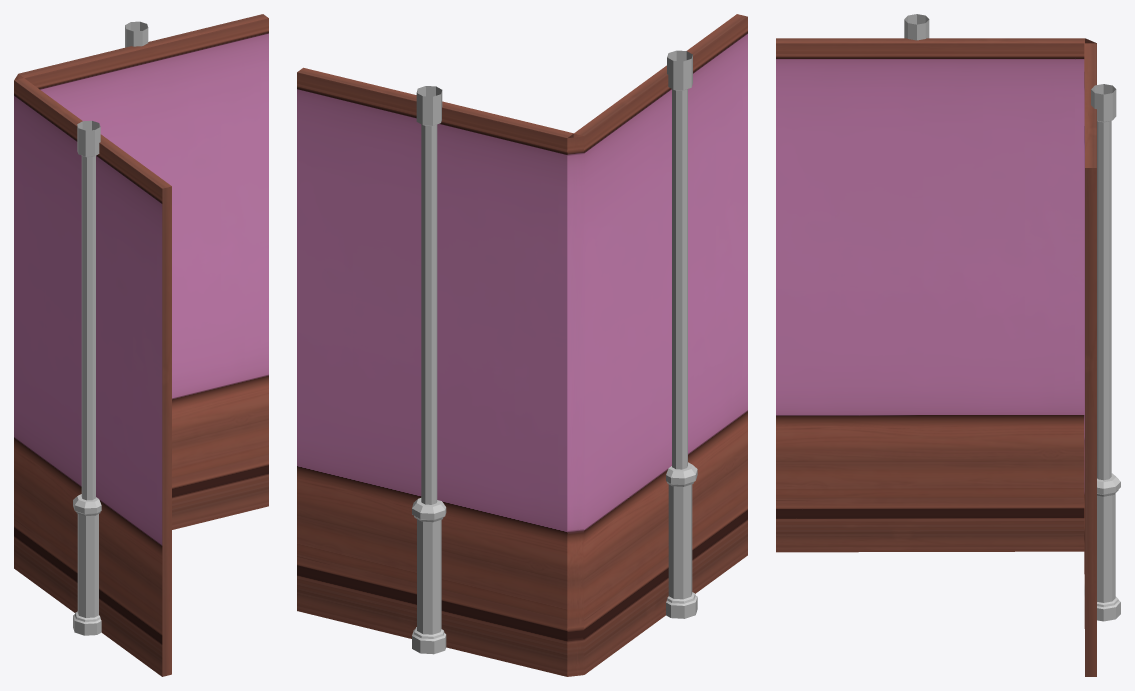
The model's file is Wall_Corner_Pillar.fbx.
3 views of the same model, side by side, from view 1: azimuth 30°, elevation 25°; view 2: azimuth 150°, elevation 25°; view 3: azimuth 270°, elevation 25° (orthographic). The views are drawn at different scales.
Parts seen in each view (by area): view 1: pasted__pCube98; view 2: pasted__pCube98; view 3: pasted__pCube98.
Boxes of the visible parts, x1=… form: pasted__pCube98: x1=14, y1=14, x2=268, y2=676; pasted__pCube98: x1=297, y1=14, x2=747, y2=676; pasted__pCube98: x1=776, y1=14, x2=1120, y2=676.
Size of the model in its own units: 1.18 by 1.23 by 2.06.
